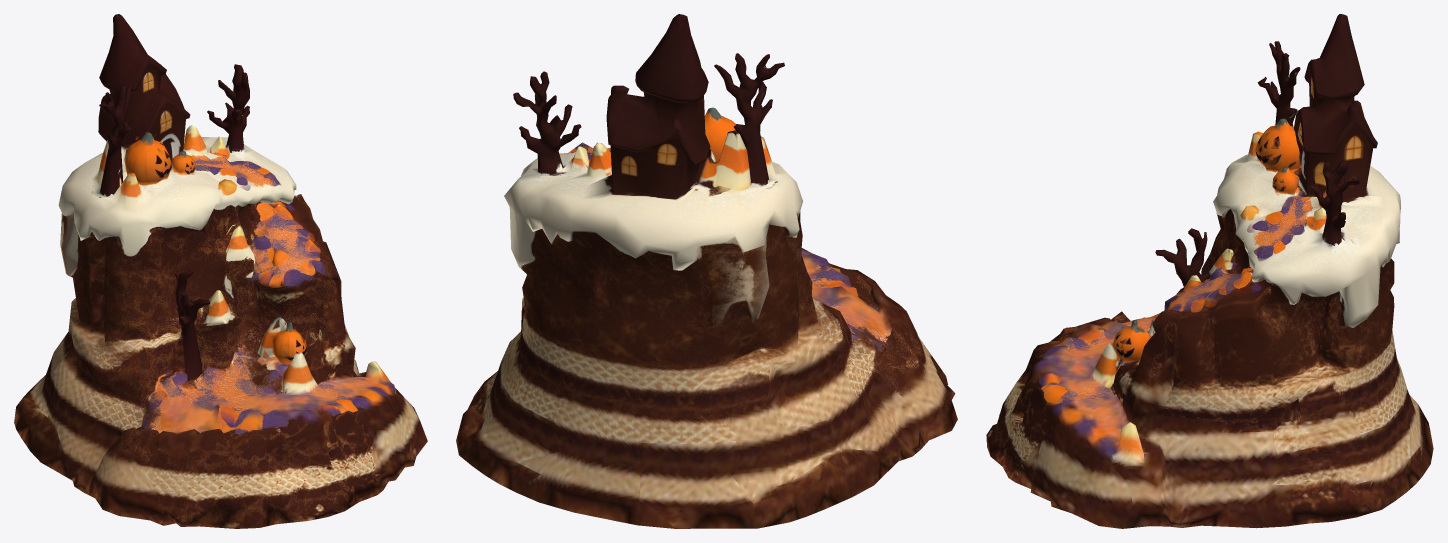
File: AW-HW-CLIFF-001-v0.2.glb
The picture shows the model from 3 angles, left to right: view 1: azimuth 30°, elevation 25°; view 2: azimuth 150°, elevation 25°; view 3: azimuth 270°, elevation 25°; orthographic projection. The views are drawn at different scales.
Visible parts, largest first — view 1: AW-HW-CLIFF-001_meter_ground_pivot; view 2: AW-HW-CLIFF-001_meter_ground_pivot; view 3: AW-HW-CLIFF-001_meter_ground_pivot.
Boxes of the visible parts, x1=… form: AW-HW-CLIFF-001_meter_ground_pivot: x1=14, y1=14, x2=427, y2=528; AW-HW-CLIFF-001_meter_ground_pivot: x1=456, y1=14, x2=957, y2=528; AW-HW-CLIFF-001_meter_ground_pivot: x1=986, y1=14, x2=1433, y2=528.
Size of the model in its own units: 2.58 by 3 by 2.96.
1 material, 1 textured.
